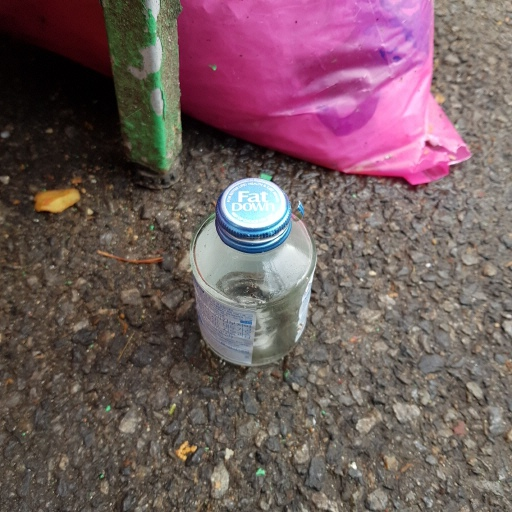Glass_4: (186, 176, 323, 370)
